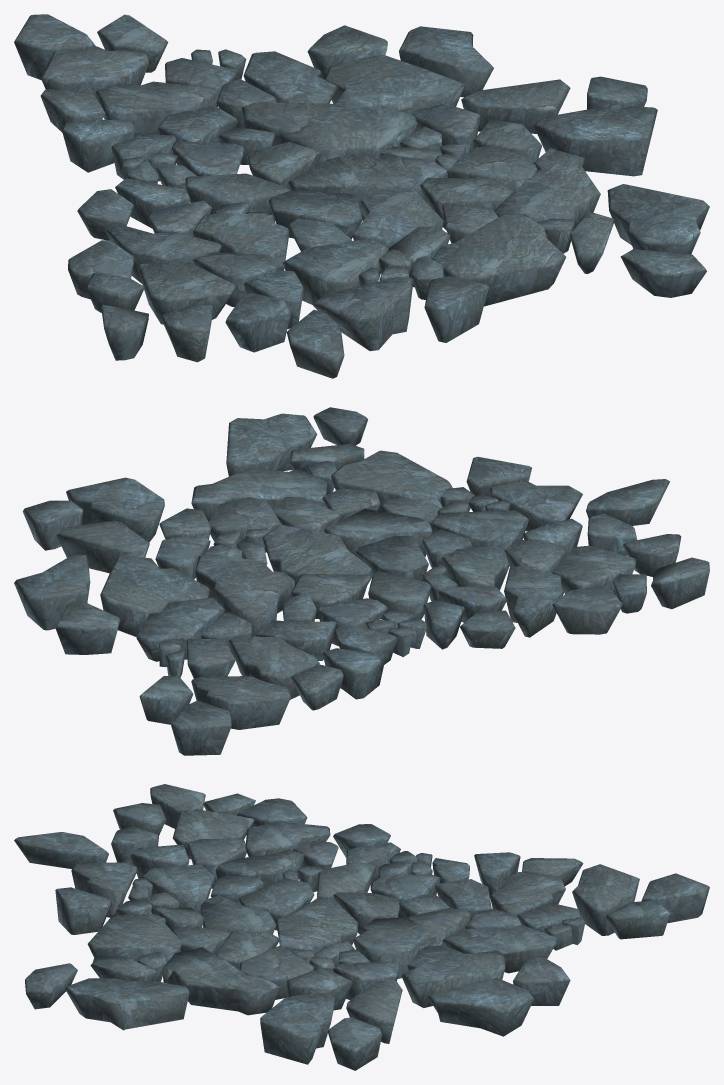
The model's file is tesv_glaciertrim02-transformed.glb.
3 renders of one model, top to bottom at view 1: azimuth 30°, elevation 25°; view 2: azimuth 150°, elevation 25°; view 3: azimuth 270°, elevation 25°, orthographic. The views are drawn at different scales.
Parts seen in each view (by area): view 1: glaciertrim02; view 2: glaciertrim02; view 3: glaciertrim02.
Boxes of the visible parts, x1=… form: glaciertrim02: x1=14, y1=14, x2=709, y2=378; glaciertrim02: x1=14, y1=407, x2=709, y2=755; glaciertrim02: x1=14, y1=784, x2=709, y2=1070.
Bounding box in the file's own units: 27.77 × 2.2 × 31.28.
Materials: 1 (1 with a texture image).
